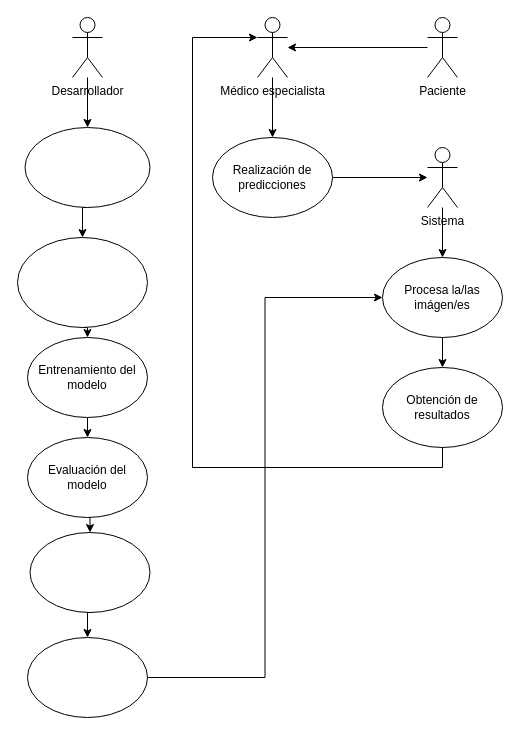
Some shapes in this 520 by 735 pixel diagram are drawn without their labels. Here are the shapes that lost their labels. From the top down, the centre of each, then its label:
At (87,167): "Preparación de datos".
At (82,282): "Desarrollo del modelo de red neuronal".
At (89,572): "Optimización del modelo".
At (87,677): "Implementación del modelo".
